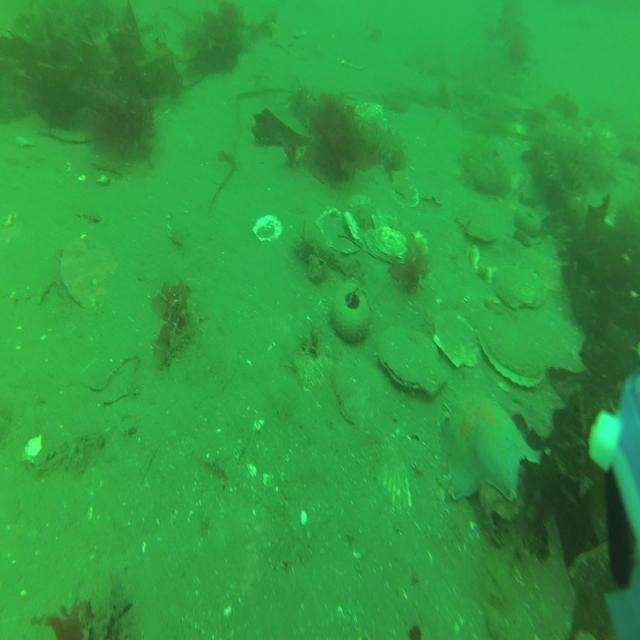scallop: (478, 304, 548, 392), (376, 321, 450, 399), (368, 210, 430, 268), (312, 202, 364, 258), (433, 313, 482, 367), (254, 211, 284, 245)
starfish: (439, 394, 542, 505)
